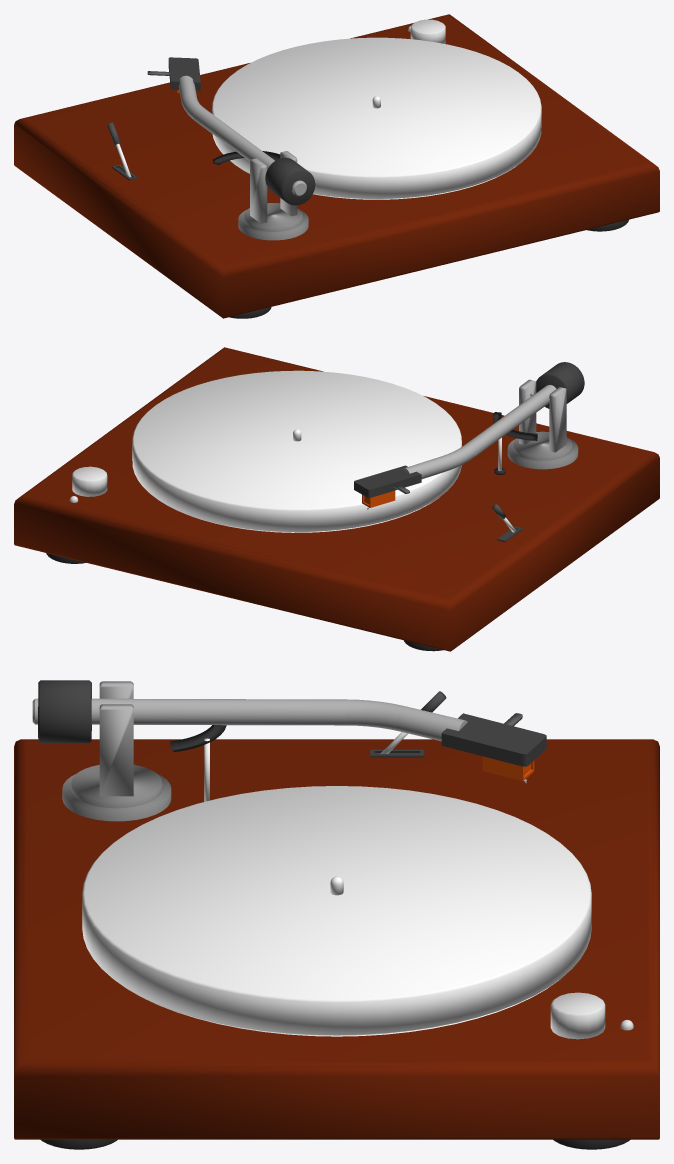
The model's file is turntable2.glb.
The picture shows the model from 3 angles, top to bottom: view 1: azimuth 30°, elevation 25°; view 2: azimuth 150°, elevation 25°; view 3: azimuth 270°, elevation 25°; orthographic projection. The views are drawn at different scales.
Visible parts, largest first — view 1: Deck, Platter, Arm, Weight, ArmSupport2, ArmBase, Head, ArmDisc, Switch; view 2: Deck, Platter, Arm, Head, Weight, ArmSupport2, ArmBase, Switch, ArmDisc, ArmSupport1; view 3: Deck, Platter, Arm, Head, Weight, ArmSupport1, ArmBase, Switch, ArmDisc, Cartridge, SupportBar.
Boxes of the visible parts, x1,y1,x2,y2 form: Deck: (14, 14, 659, 318); Platter: (212, 37, 541, 199); Arm: (178, 75, 306, 196); Weight: (265, 157, 315, 205); ArmSupport2: (250, 158, 267, 223); ArmBase: (244, 203, 302, 231); Head: (168, 57, 200, 90); ArmDisc: (238, 210, 308, 240); Switch: (410, 19, 445, 43); Deck: (14, 347, 659, 651); Platter: (132, 370, 461, 532); Arm: (402, 385, 556, 479); Head: (354, 465, 421, 497); Weight: (536, 362, 584, 408); ArmSupport2: (549, 387, 566, 452); ArmBase: (513, 431, 572, 460); Switch: (72, 466, 107, 496); ArmDisc: (507, 438, 578, 469); ArmSupport1: (519, 379, 536, 444); Deck: (14, 739, 659, 1139); Platter: (82, 786, 591, 1036); Arm: (32, 698, 467, 741); Head: (441, 713, 546, 766); Weight: (38, 680, 91, 742); ArmSupport1: (99, 704, 133, 796); ArmBase: (71, 764, 162, 808); Switch: (550, 992, 605, 1039); ArmDisc: (62, 773, 171, 821); Cartridge: (482, 756, 534, 781); SupportBar: (170, 725, 226, 751).
Size of the model in its own units: 4.29 by 1.27 by 3.55.
